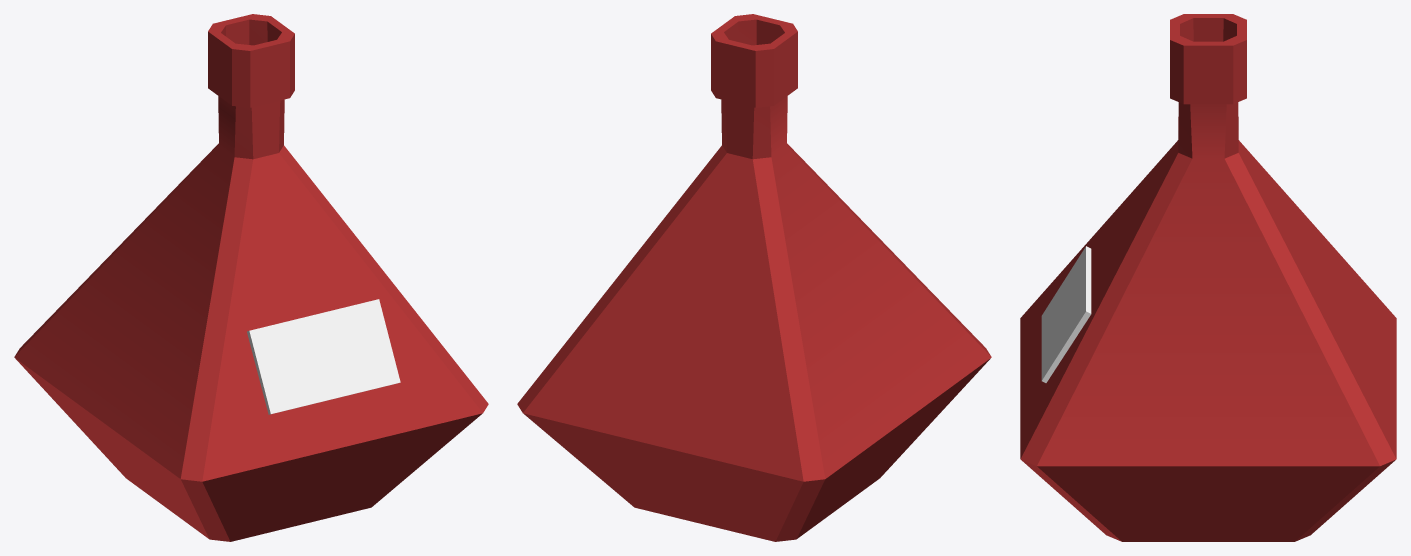
The model's file is SM_potion_02.fbx.
3 renders of one model, left to right at view 1: azimuth 30°, elevation 25°; view 2: azimuth 150°, elevation 25°; view 3: azimuth 270°, elevation 25°, orthographic. The views are drawn at different scales.
Parts seen in each view (by area): view 1: Object002; view 2: Object002; view 3: Object002.
Part boxes in pixels (left/top/right/bottom): Object002: left=14, top=14, right=488, bottom=541; Object002: left=517, top=14, right=991, bottom=541; Object002: left=1020, top=14, right=1396, bottom=541.
Size of the model in its own units: 11.49 by 16.25 by 11.78.
